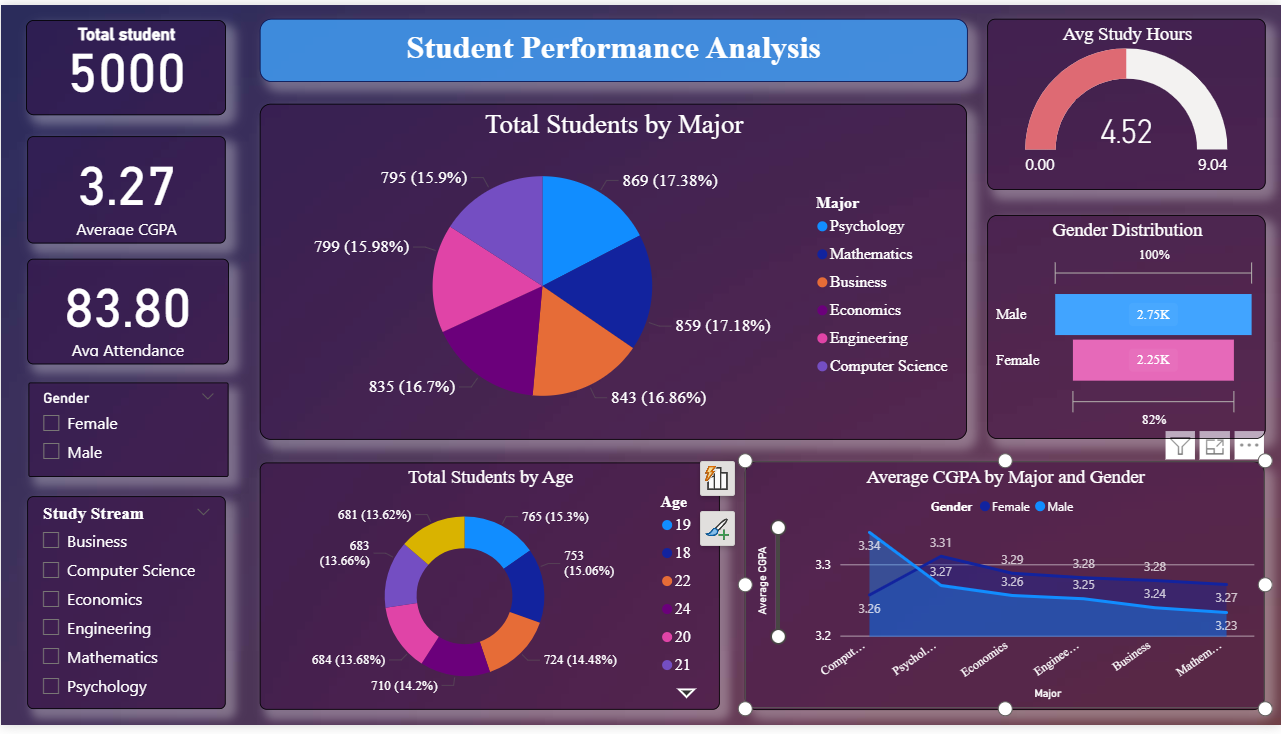

Layout of this report page (visuals, bound fields, positions):
{"tool":"powerbi","page":{"name":"Page 1","canvas":[1280,720],"ordinal":0},"visuals":[{"type":"textbox","box":[258.3,13.3,708.3,63.3],"z":0},{"type":"card","title":"Total student","fields":{"Values":["Student_data.Total Students"]},"box":[25,15,200,95],"z":1000},{"type":"slicer","fields":{"Values":["Student_data.Gender"]},"box":[27.1,377.1,200,94.3],"z":2000},{"type":"slicer","fields":{"Values":["Student_data.Major"]},"box":[25.7,491.4,198.6,212.9],"z":3000},{"type":"card","fields":{"Values":["Student_data.Average CGPA"]},"box":[25.7,131.4,198.6,107.1],"z":4000},{"type":"card","fields":{"Values":["Student_data.Avg Attendance"]},"box":[25.7,254.3,201.4,105.7],"z":5000},{"type":"pieChart","fields":{"Category":["Student_data.Major"],"Y":["Student_data.Total Students"]},"box":[258.6,98.6,707.1,335.7],"z":6000},{"type":"gauge","fields":{"Y":["Student_data.Avg Study Hours"]},"box":[985.7,14.3,278.6,171.4],"z":7000},{"type":"donutChart","fields":{"Category":["Student_data.Age"],"Y":["Student_data.Total Students"]},"box":[258.6,457.1,460,247.1],"z":8000},{"type":"areaChart","fields":{"Category":["Student_data.Major"],"Y":["Student_data.Average CGPA"],"Series":["Student_data.Gender"]},"box":[745,456.2,520,247.5],"z":9000},{"type":"funnel","title":"Gender Distribution","fields":{"Category":["Student_data.Gender"],"Y":["CountNonNull(Student_data.Student_ID)"]},"box":[985.7,210,278.6,224.3],"z":10000}]}

Visuals, with their boxes in screenshot pixels (x1, y1, x2, y2), scaled from the page's 1280x720 canvas onto the 1281x734 screenshot:
textbox: left=259, top=14, right=967, bottom=78
"Total student" card: left=25, top=15, right=225, bottom=112
slicer - Student_data.Gender: left=27, top=384, right=227, bottom=481
slicer - Student_data.Major: left=26, top=501, right=224, bottom=718
card - Student_data.Average CGPA: left=26, top=134, right=224, bottom=243
card - Student_data.Avg Attendance: left=26, top=259, right=227, bottom=367
pieChart - Student_data.Major x Student_data.Total Students: left=259, top=101, right=966, bottom=443
gauge - Student_data.Avg Study Hours: left=986, top=15, right=1265, bottom=189
donutChart - Student_data.Age x Student_data.Total Students: left=259, top=466, right=719, bottom=718
areaChart - Student_data.Major x Student_data.Average CGPA: left=746, top=465, right=1266, bottom=717
"Gender Distribution" funnel: left=986, top=214, right=1265, bottom=443
